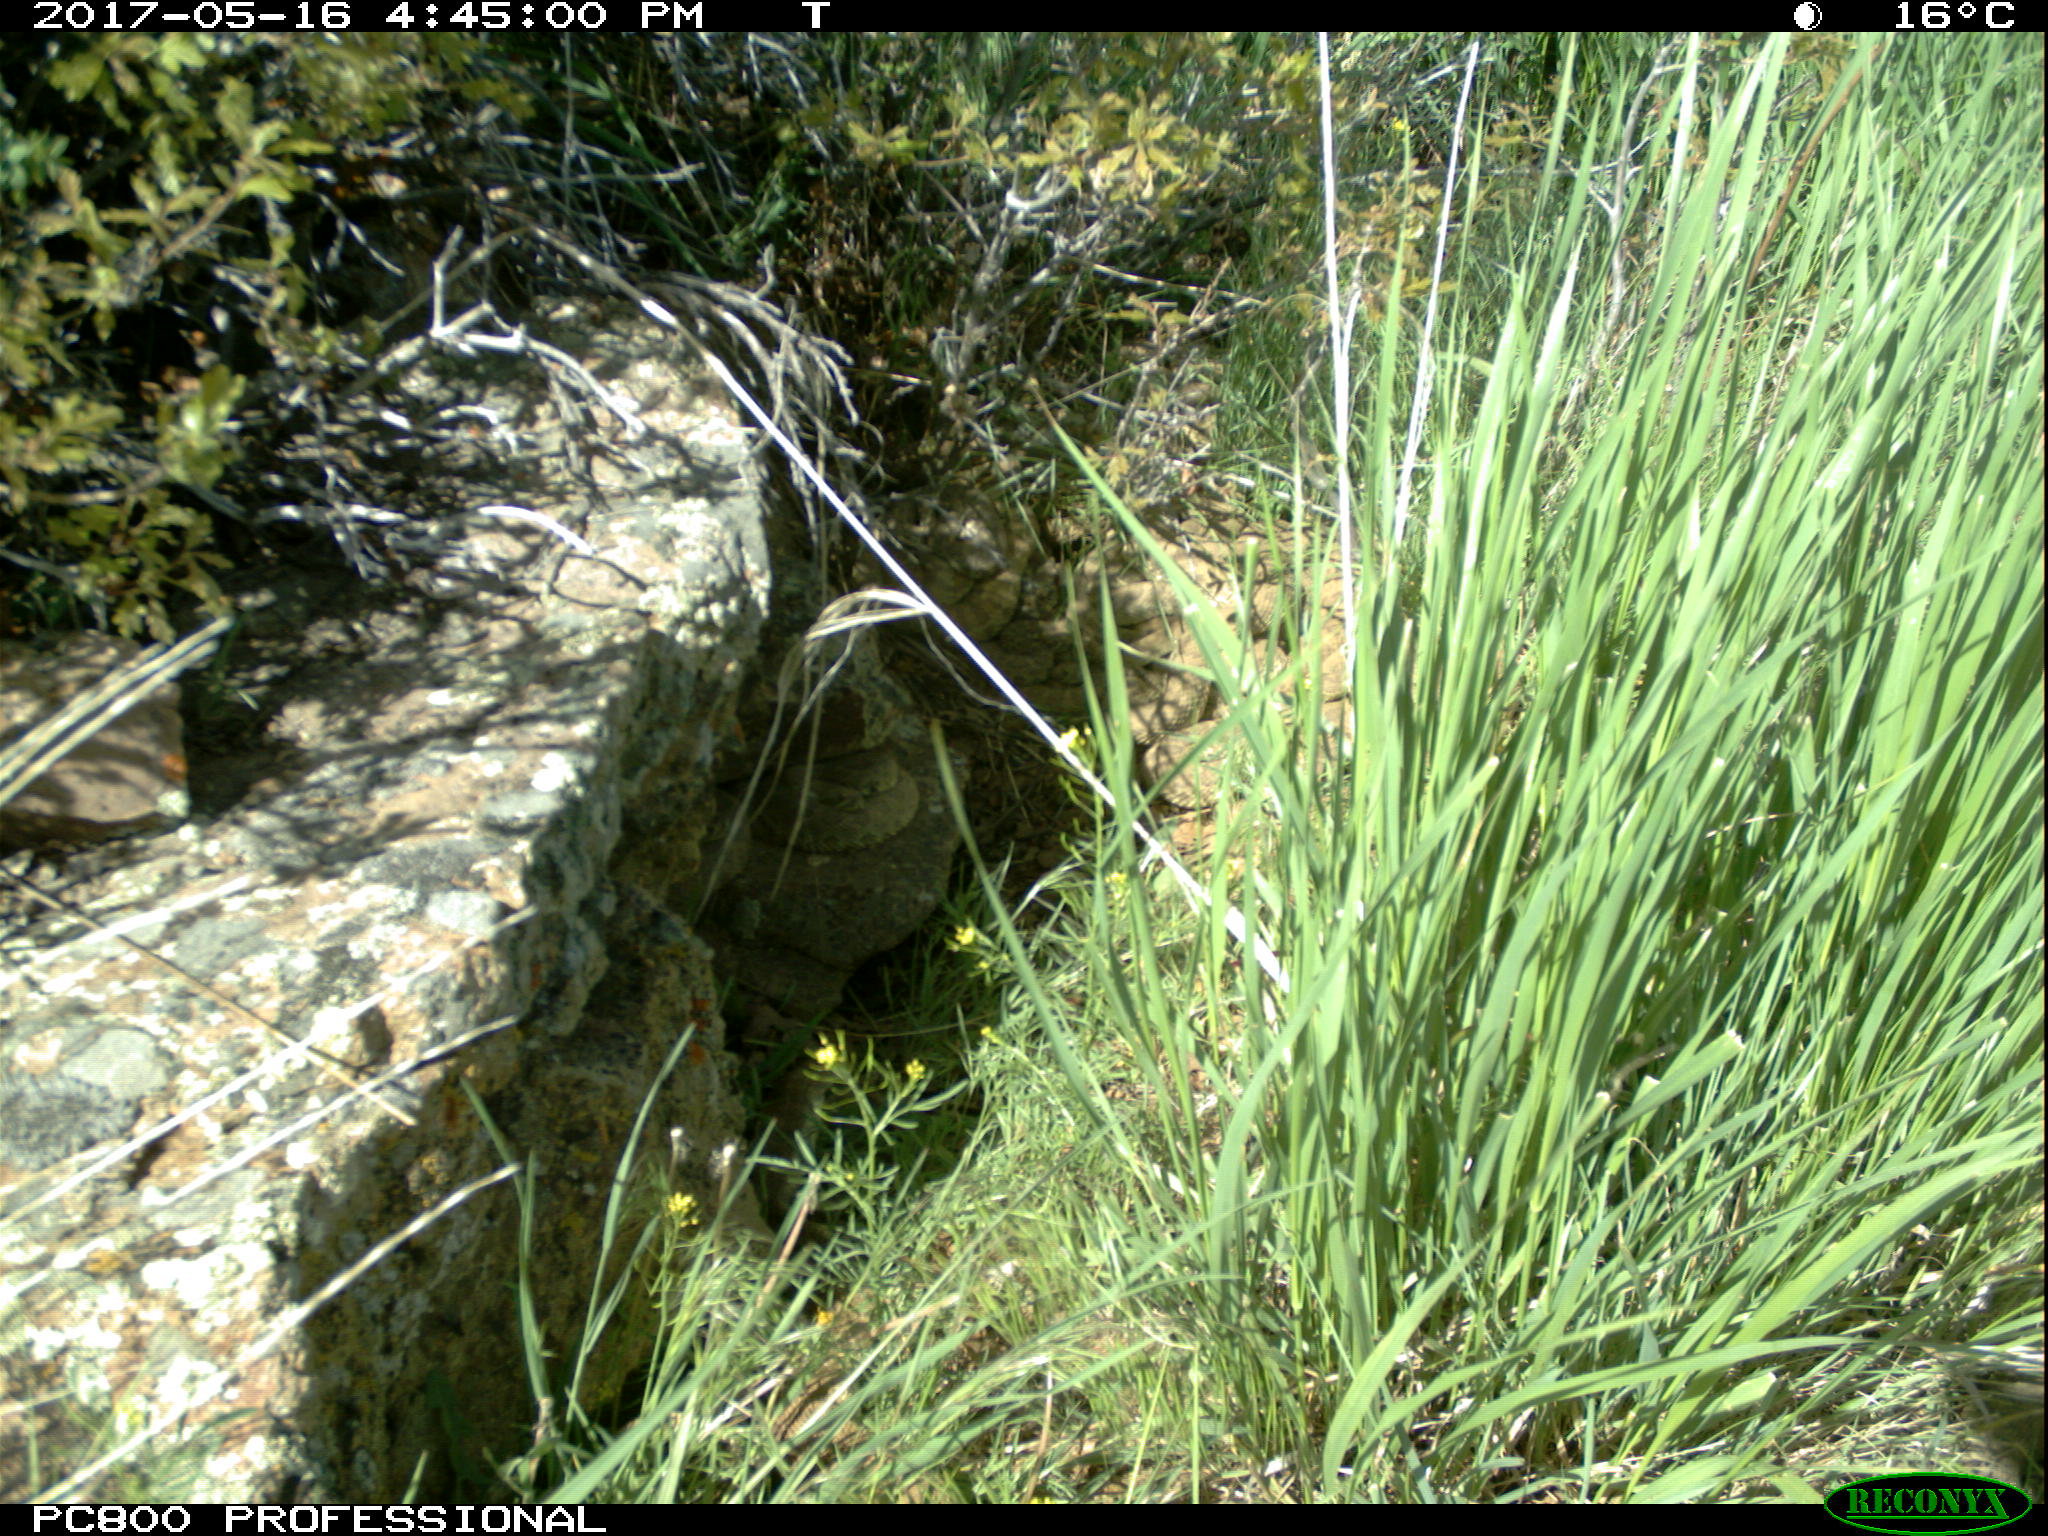snake: (884, 502, 1029, 644), (1259, 552, 1356, 763), (766, 749, 921, 854), (1095, 582, 1205, 729), (1140, 720, 1250, 808)
